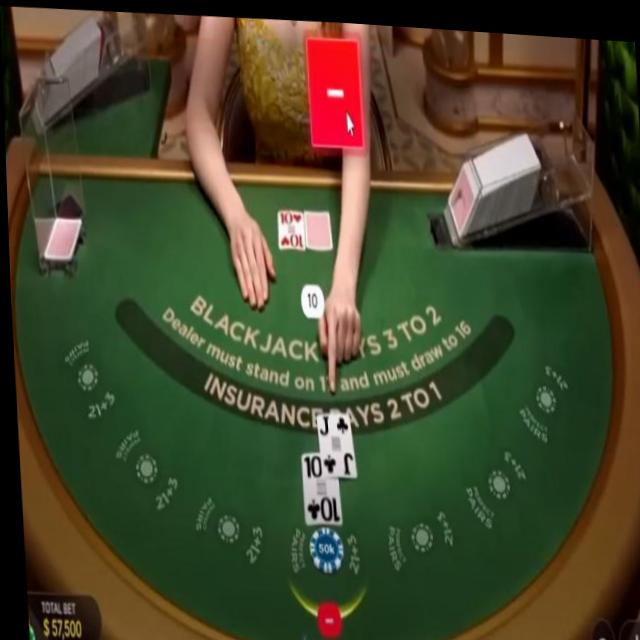Card-10: (298, 446, 337, 520), (276, 205, 303, 246)
Card-J: (313, 407, 353, 472)
